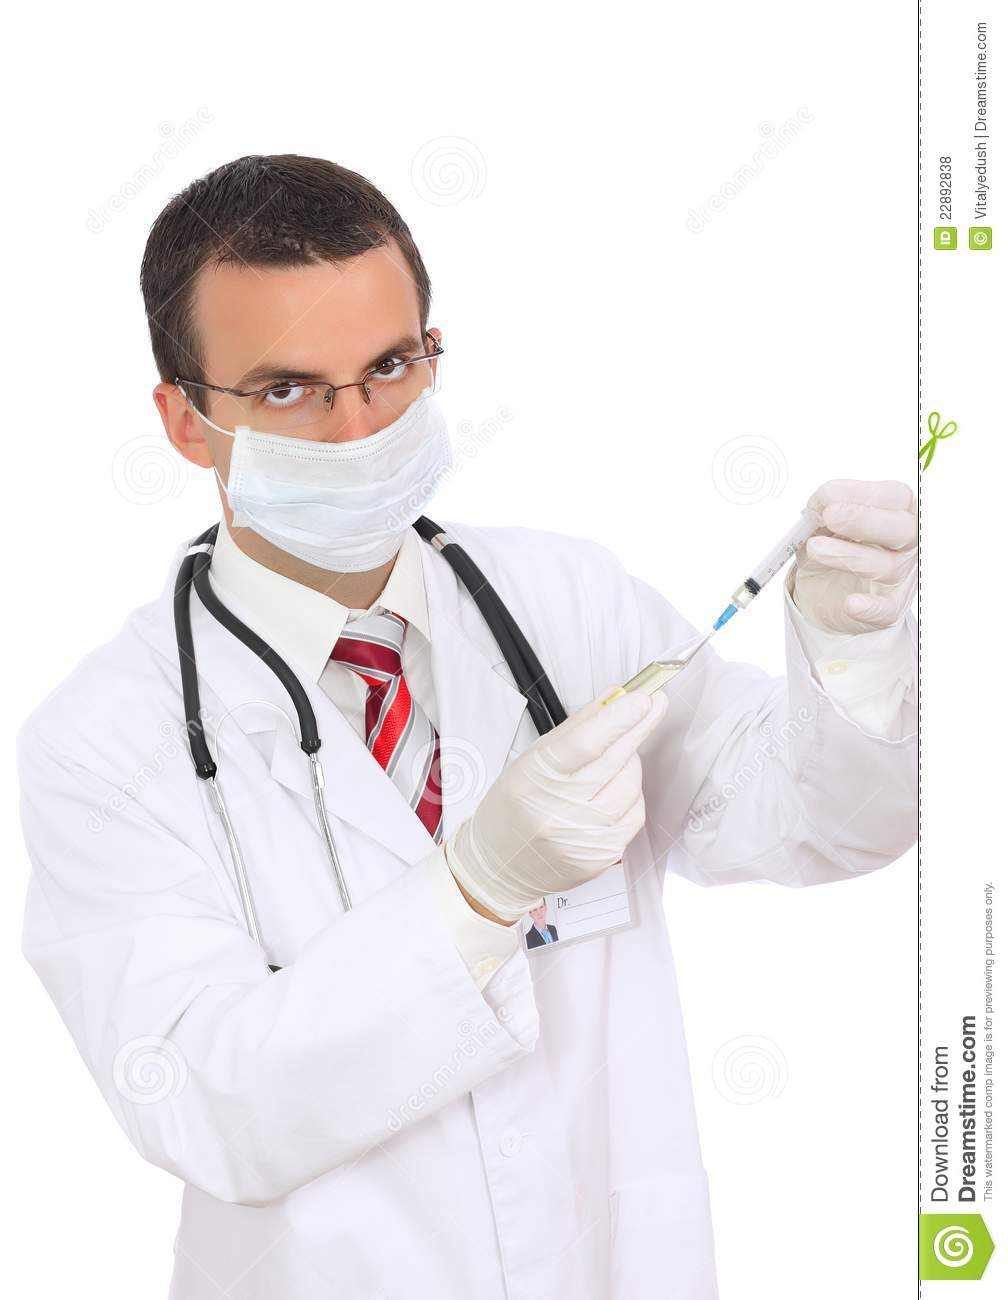mask: (224, 389, 470, 584)
